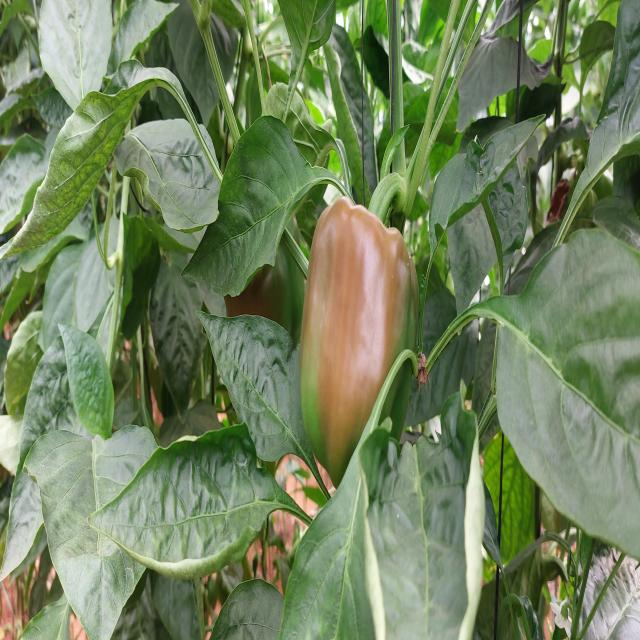BrownishRed--Can-be-Harvested: (298, 193, 417, 494)
